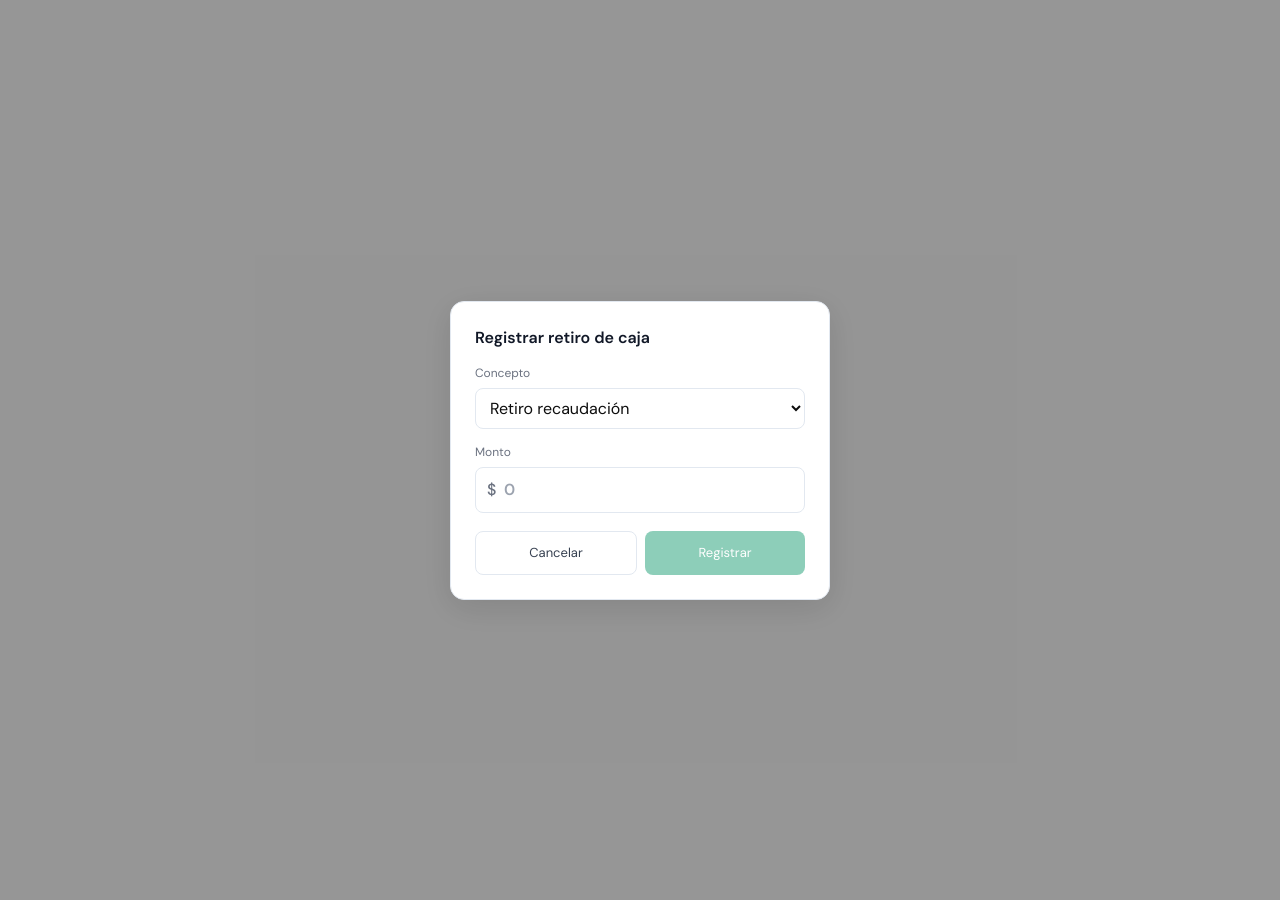
AddRetiroModal › shows "Otro" text input when Otro is selected
Select "Otro" in the dropdown: (640, 408) [475,388,805,428]
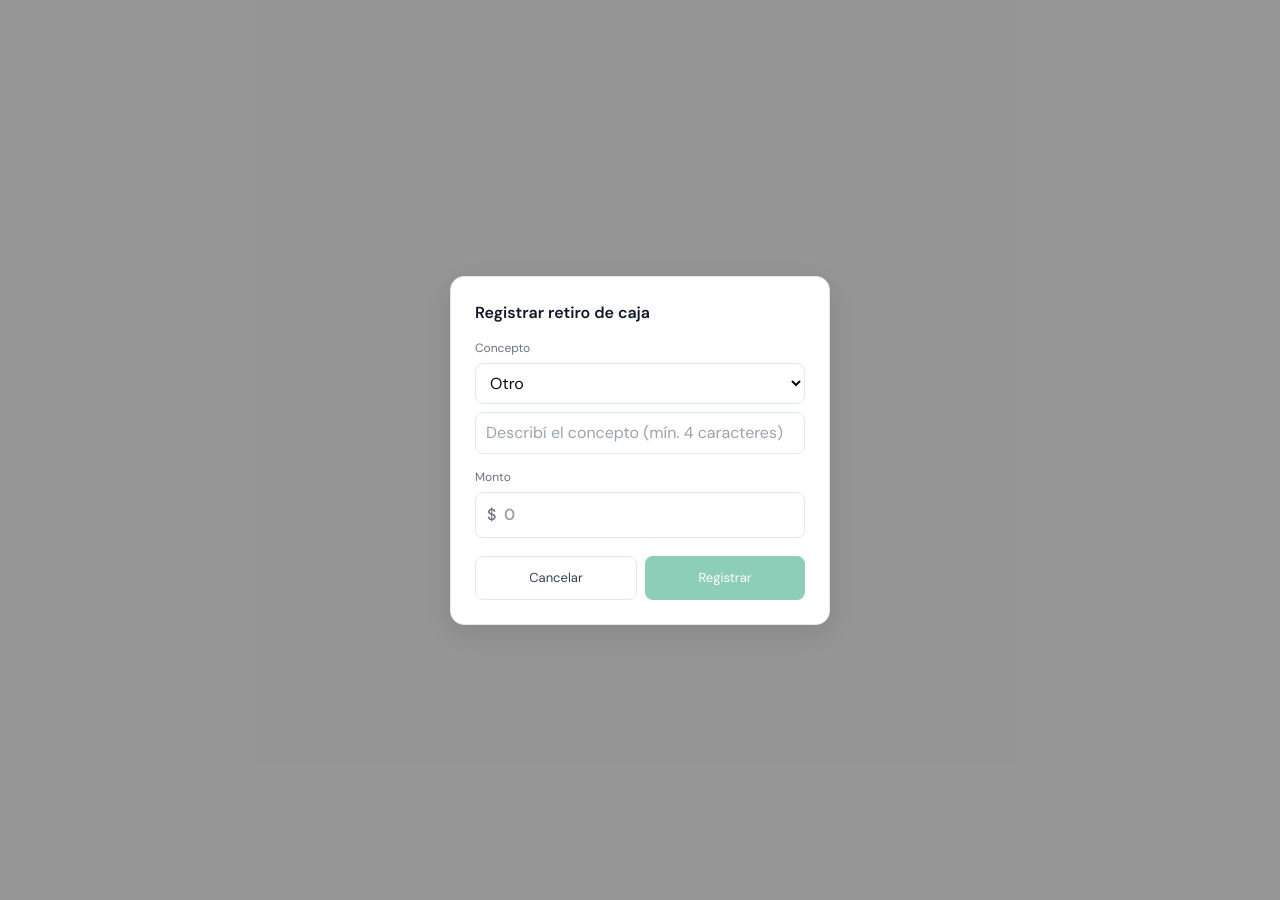
Now the field with placeholder "Describí el concepto (mín. 4 caracteres)" is shown, box [475,412,805,454]
